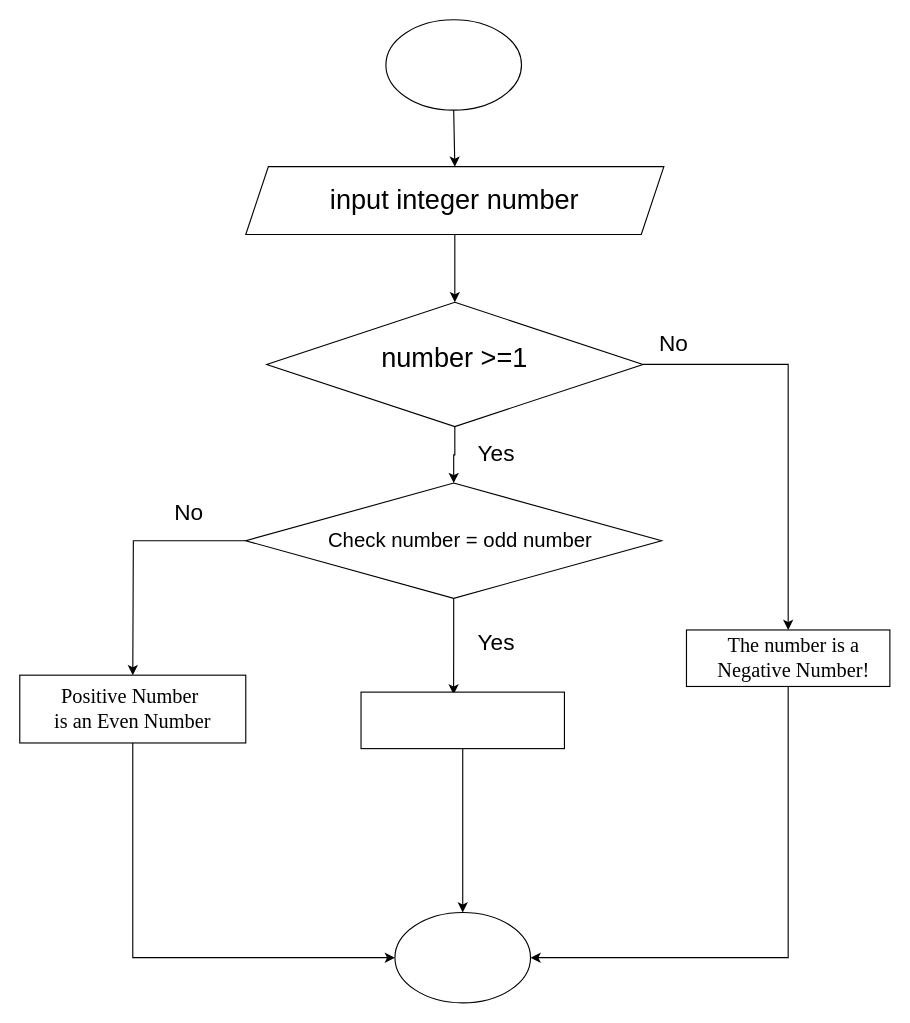
The diagram is 910 pixels wide and 1023 high, and some of its shapes have lost their labels. Here are the shapes that lost their labels. From the top down, the centre of each, then its label:
At point (453, 64): "Start".
At point (462, 720): "Positive Number is an Odd Number".
At point (462, 957): "End".
